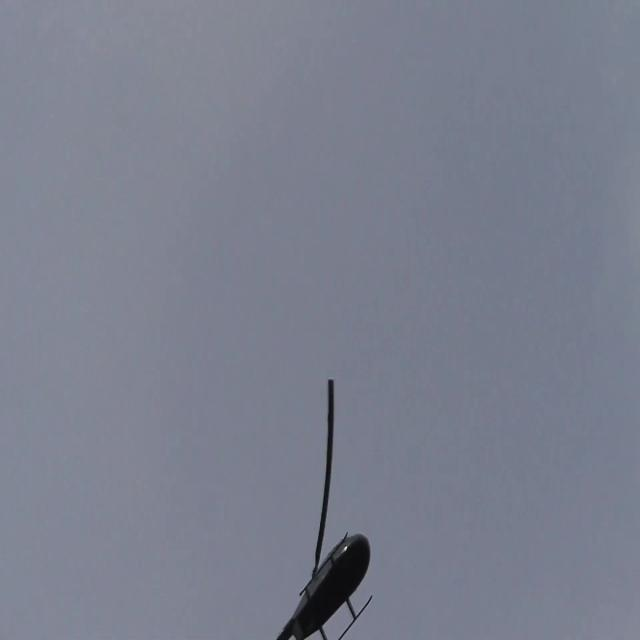CIV_HELO: (274, 531, 373, 640)
